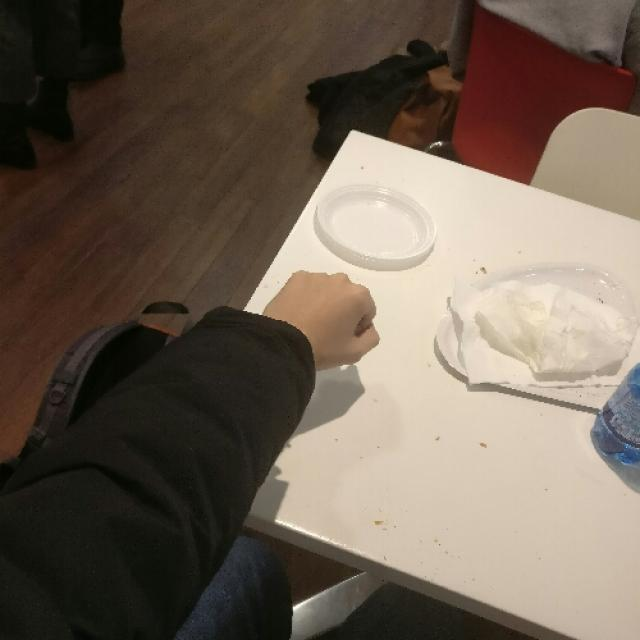rock: (260, 264, 384, 372)
